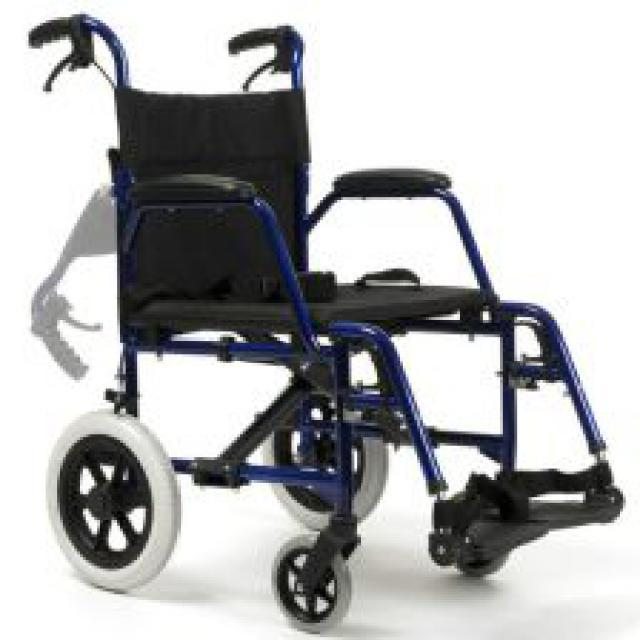wheelchair: (17, 11, 637, 628)
